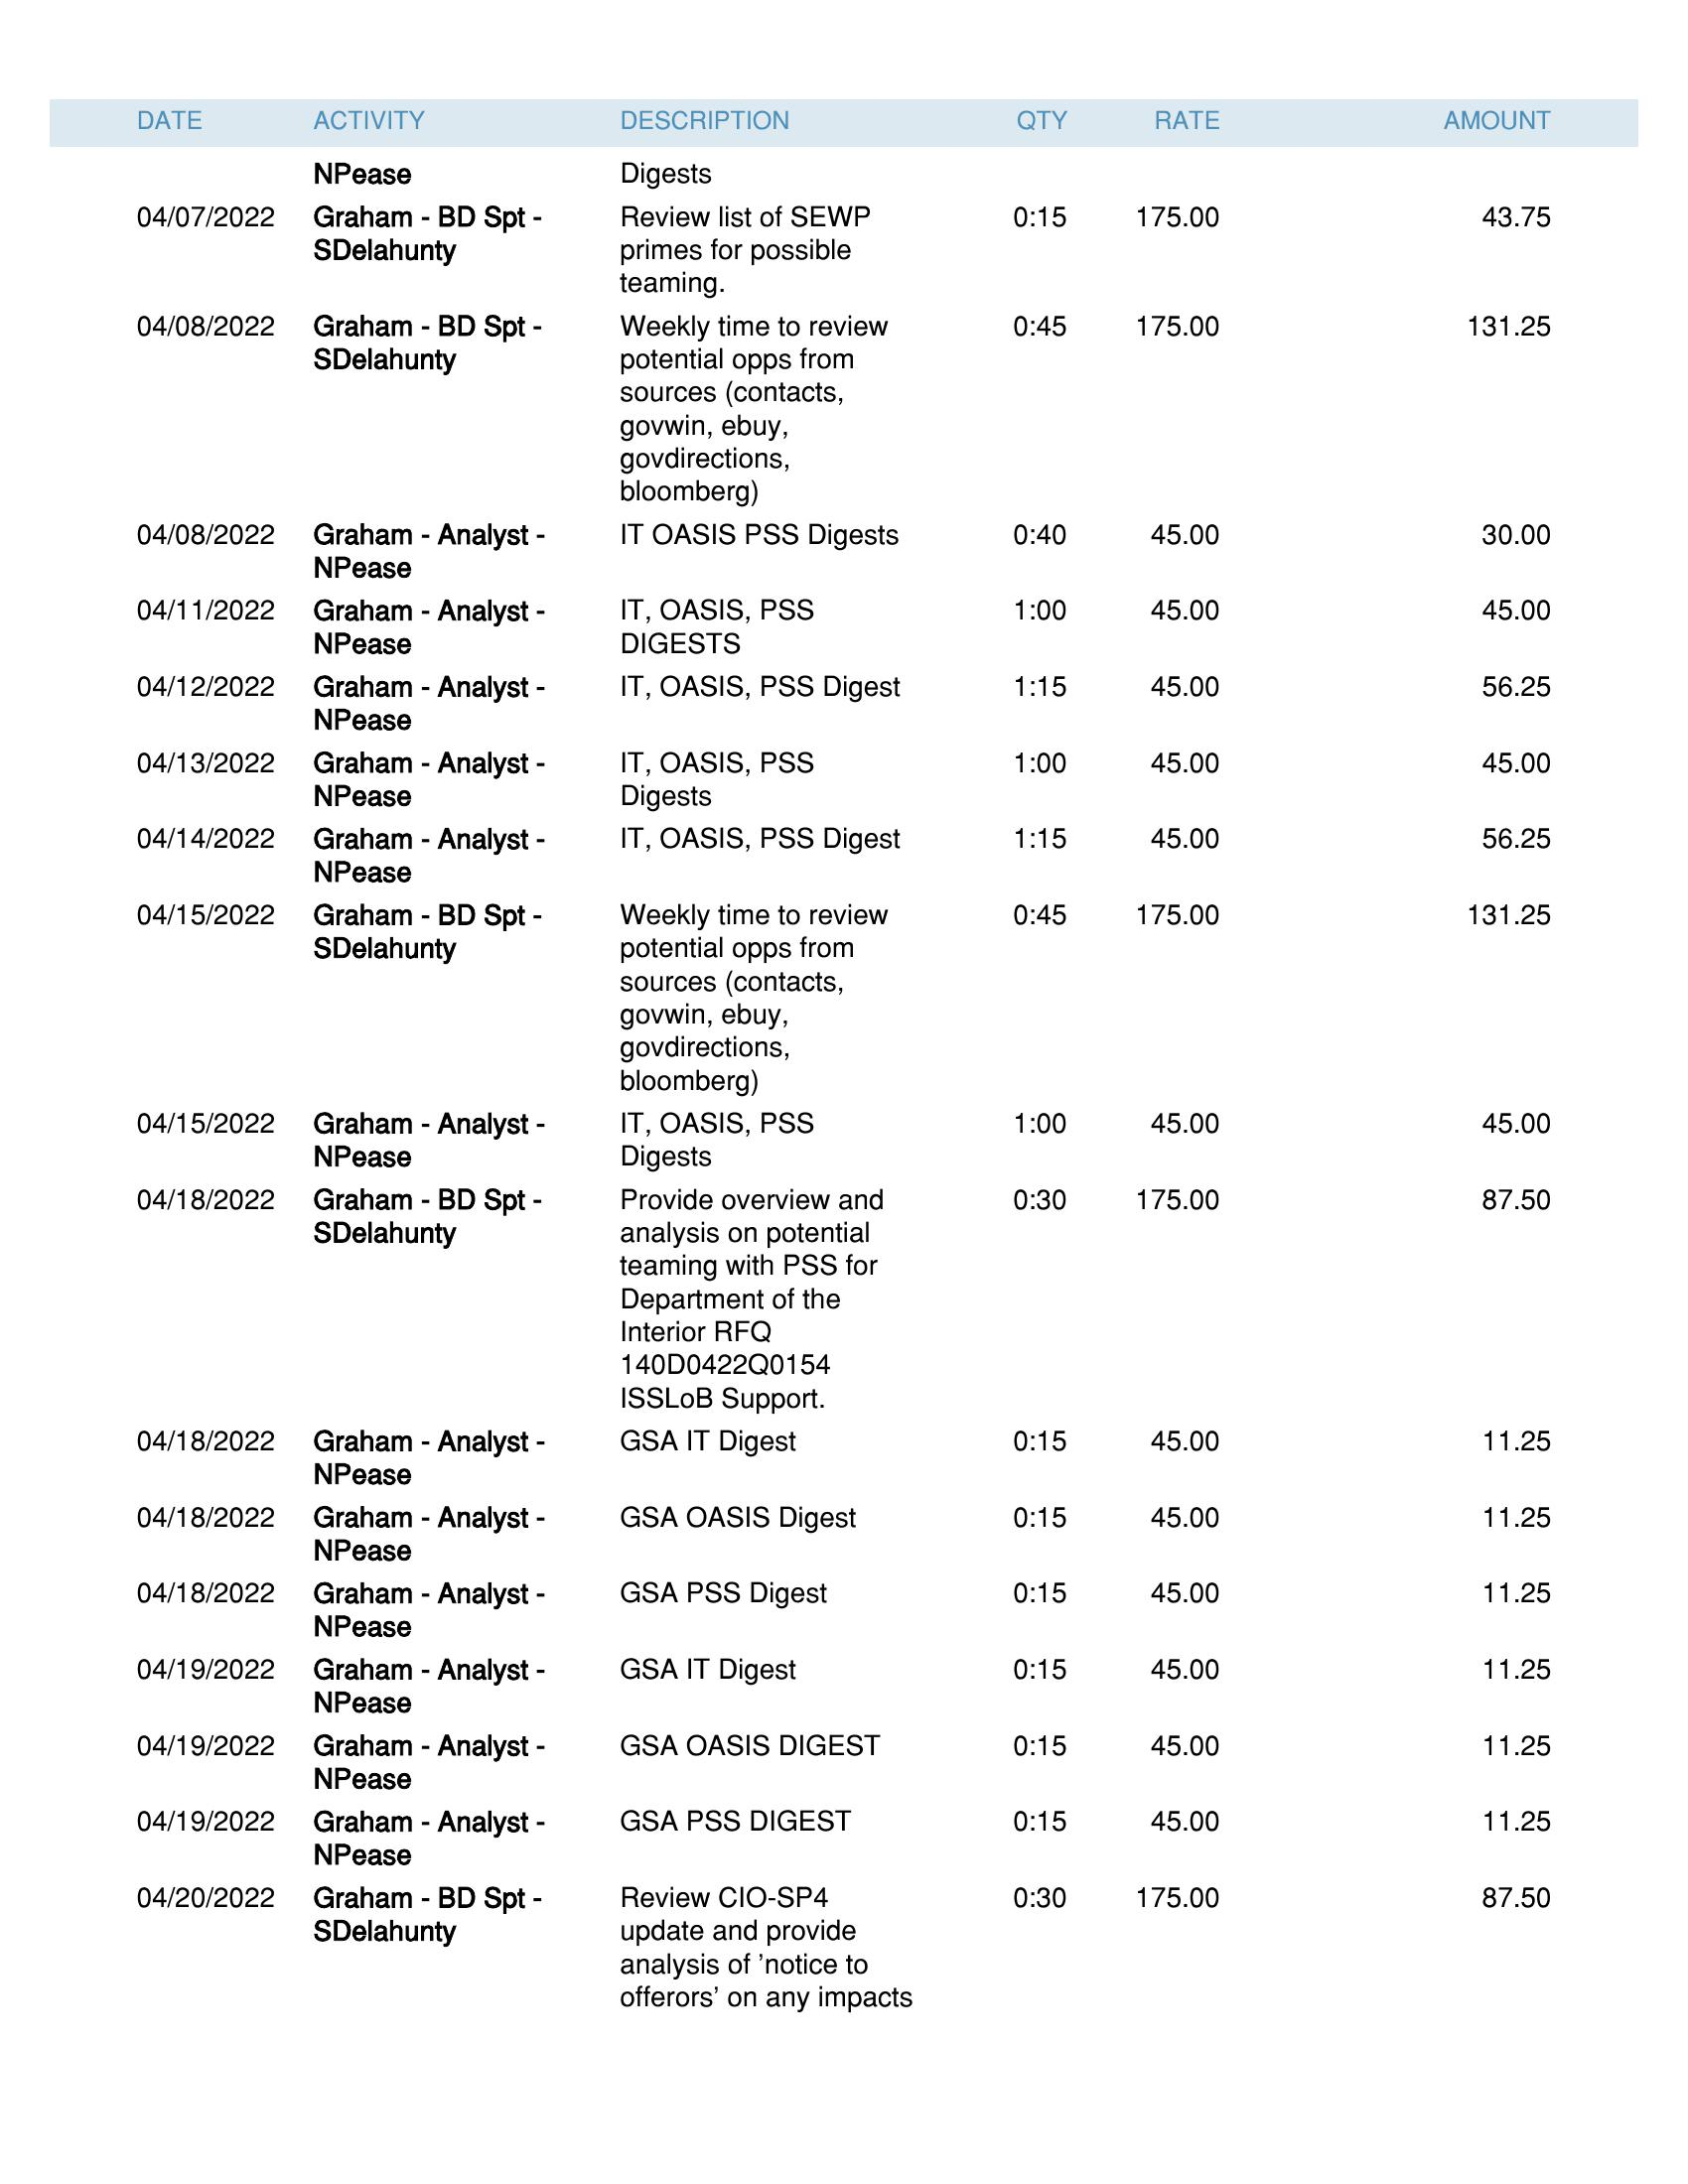table: (48, 85, 1637, 2042)
